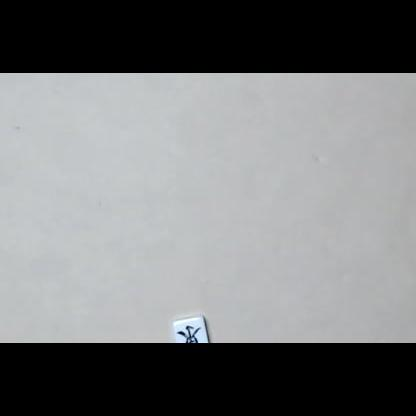1z: (176, 324, 201, 343)
